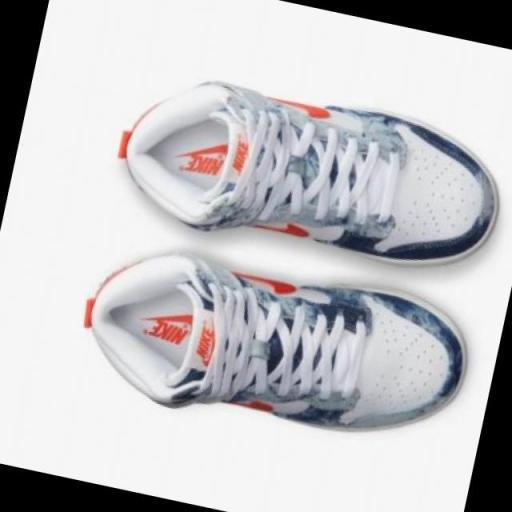Nike: (144, 316, 190, 345)
